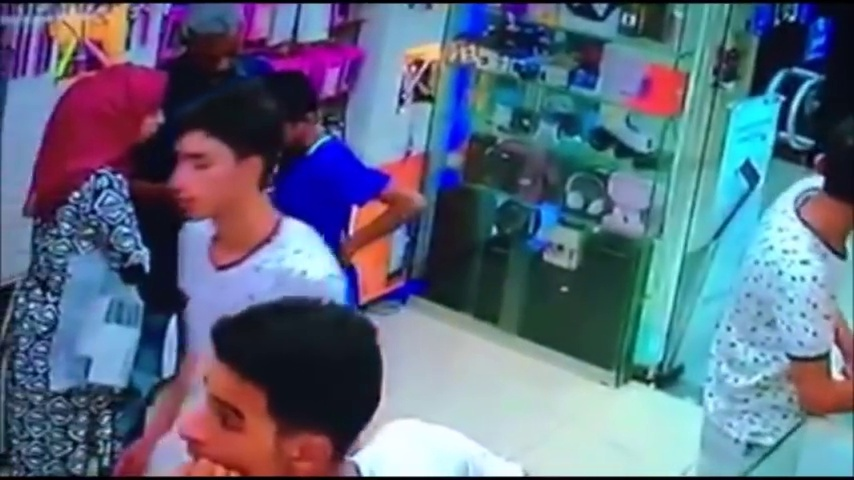face: (180, 367, 294, 480), (169, 139, 236, 223)
